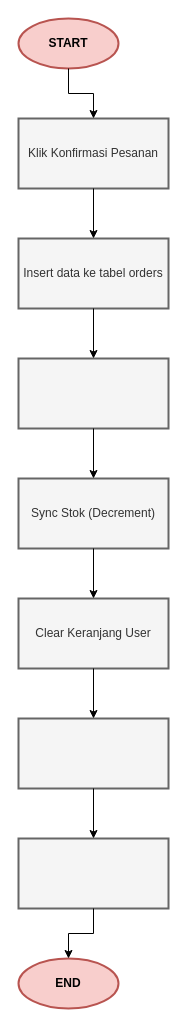
This 186x1026 diagram has some shape labels left out. Each missing label, with the centre of its shape:
Generate Realtime Notification: [93,753]
Insert detail ke order_items: [93,393]
Order Recorded Successfully: [93,873]
